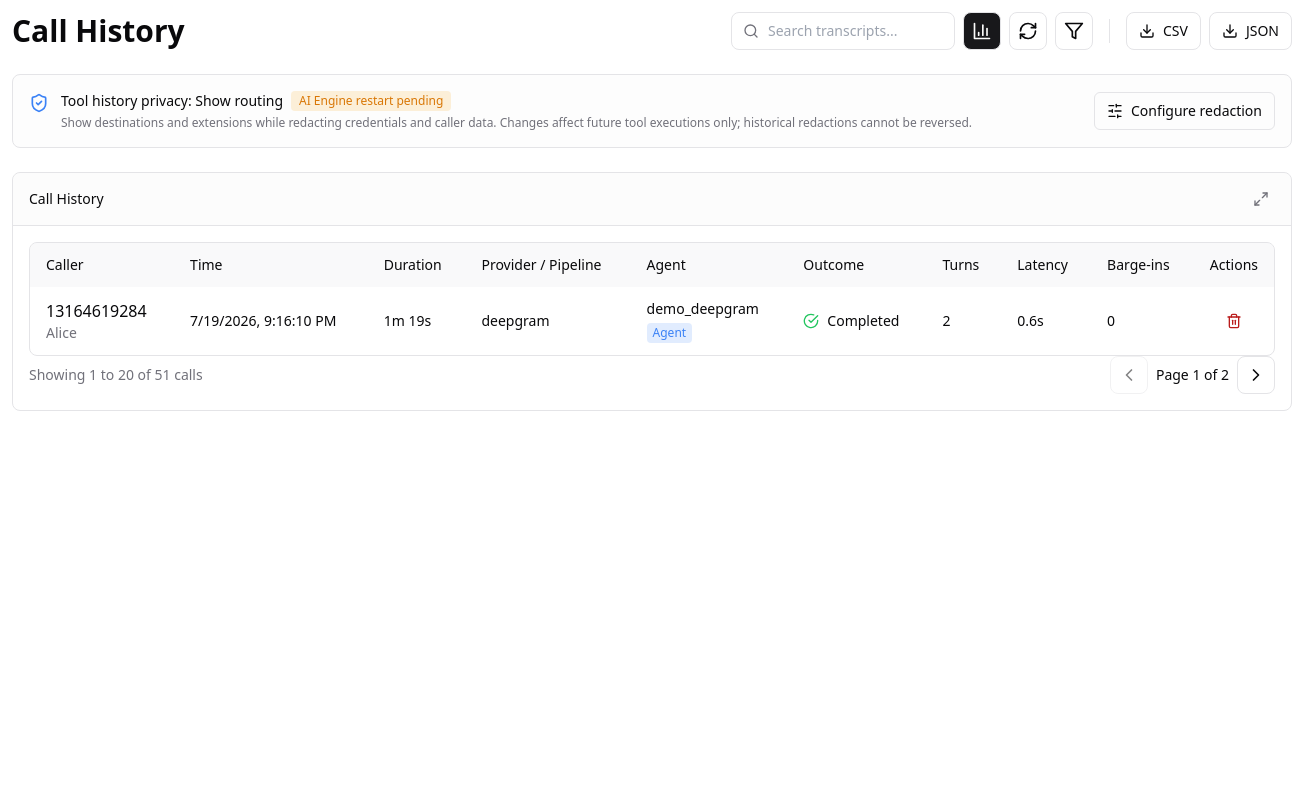
Test: CallHistoryPage deep links › resets to the first page when a metadata filter changes
Expected: the button named "Previous page" is disabled, [1110,356,1148,394]
Click the button named "Next page".
click(1256, 375)  # box [1237,356,1275,394]
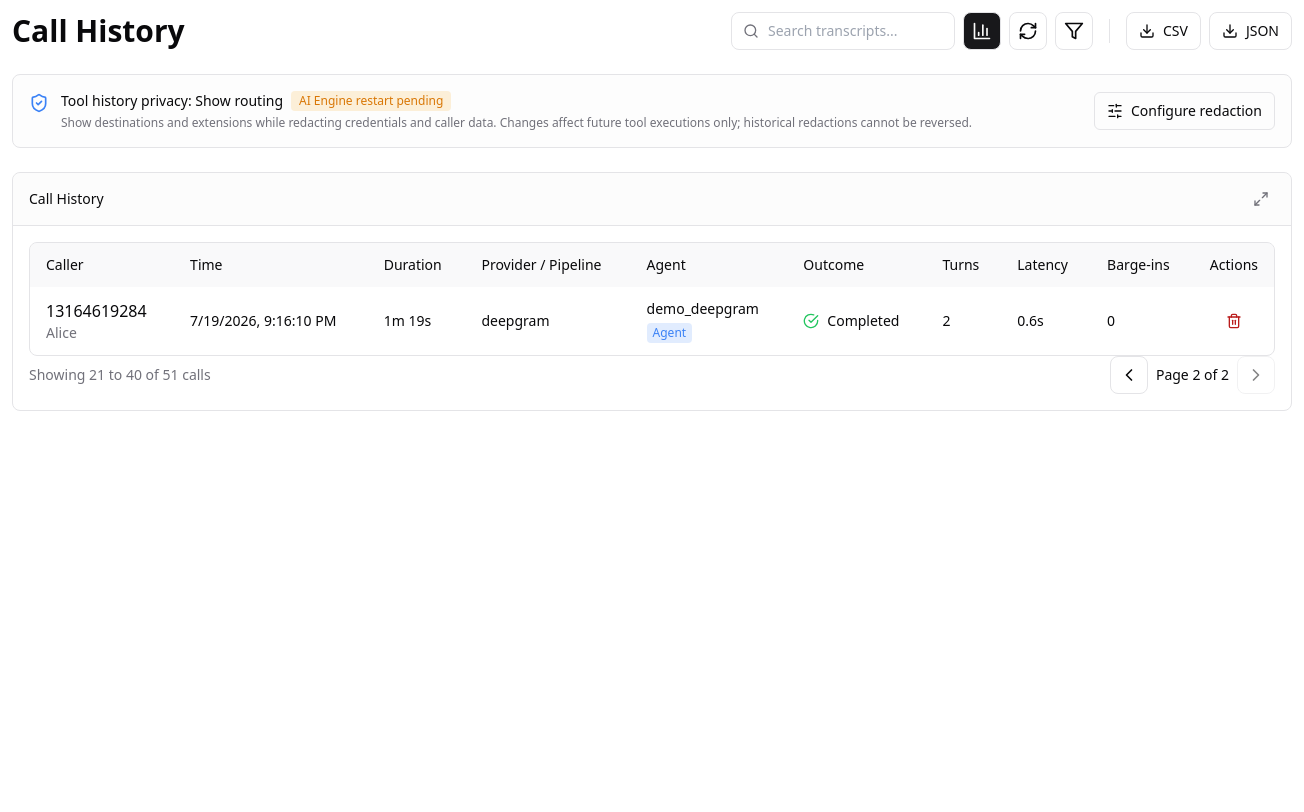
Expected: the button named "Previous page" is enabled, [1110,356,1148,394]
Expected: the text "Page 2 of 2" is shown, [1156,365,1229,385]
Click the button named "Filters".
click(1074, 31)  # box [1055,12,1093,50]
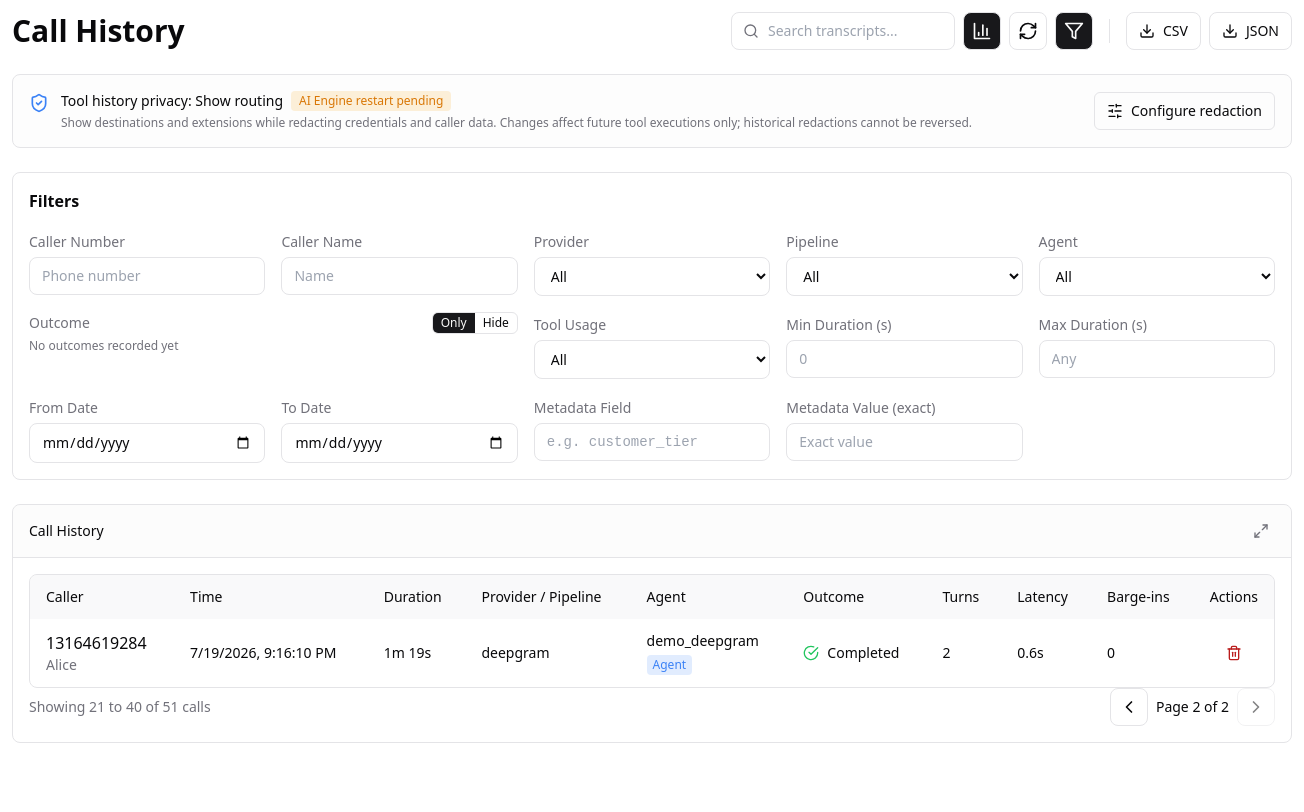
Type "customer_tier" into the field labelled "Metadata Field".
click(652, 442); type("customer_tier")  # box [534,423,770,461]
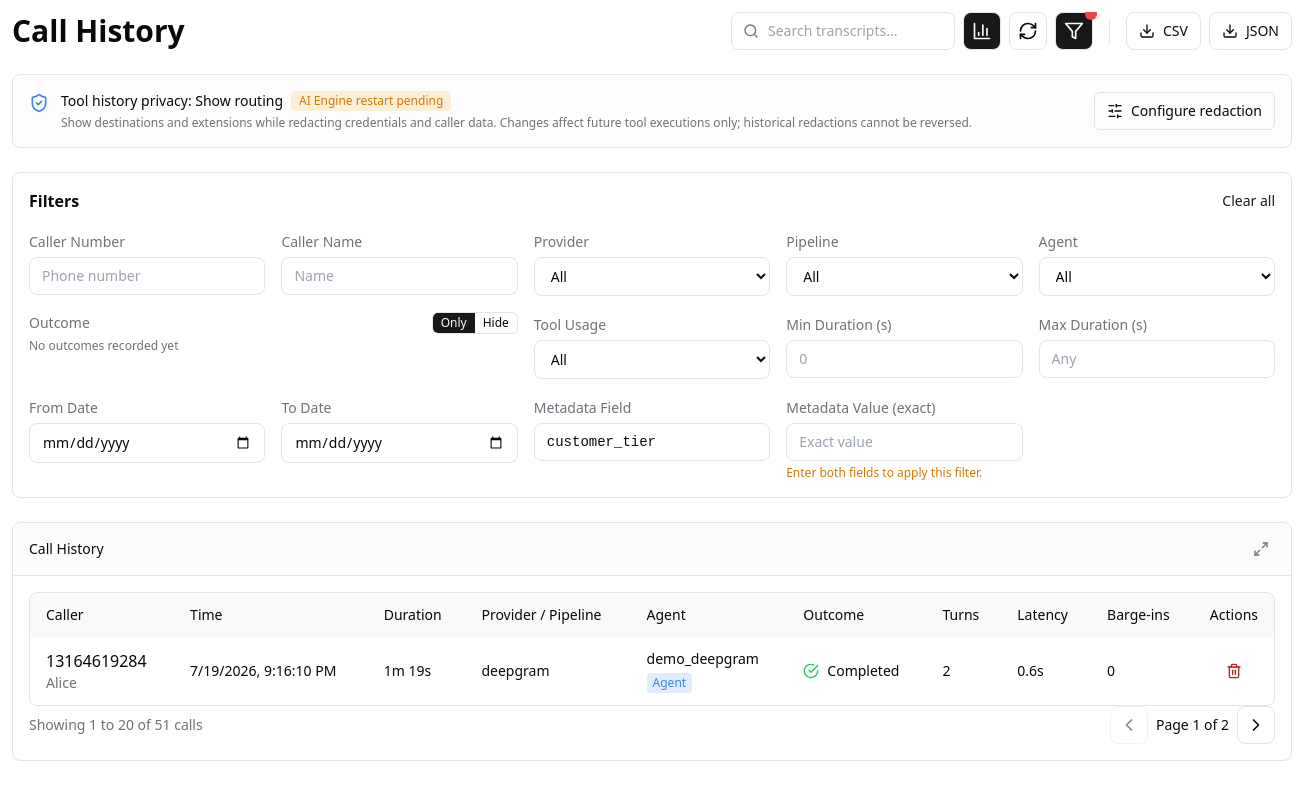
Expected: the text "Page 1 of 2" is shown, [1156,715,1229,735]
